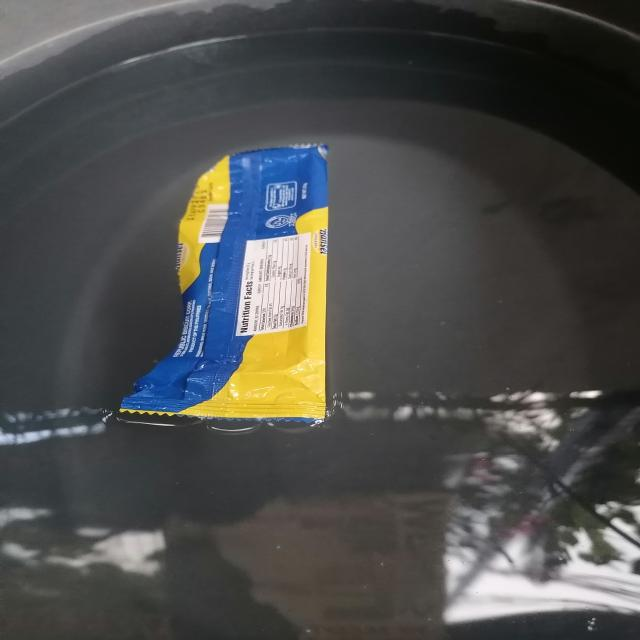Plastic Wrapper: (58, 122, 396, 451)
